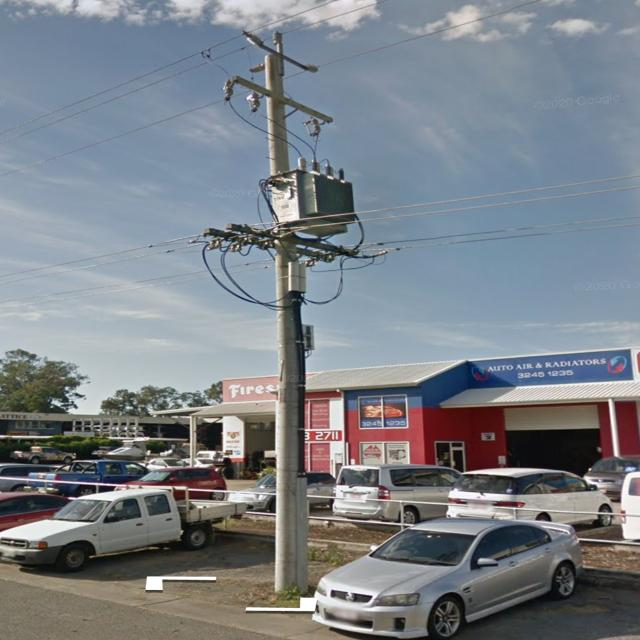HV-transmission: (220, 28, 333, 137)
LV link: (167, 240, 256, 256), (147, 235, 231, 250)
concrete-pole: (264, 54, 310, 597)
crossarm: (208, 221, 358, 263), (231, 74, 332, 124), (258, 42, 309, 70)
transformer: (265, 159, 354, 239)
